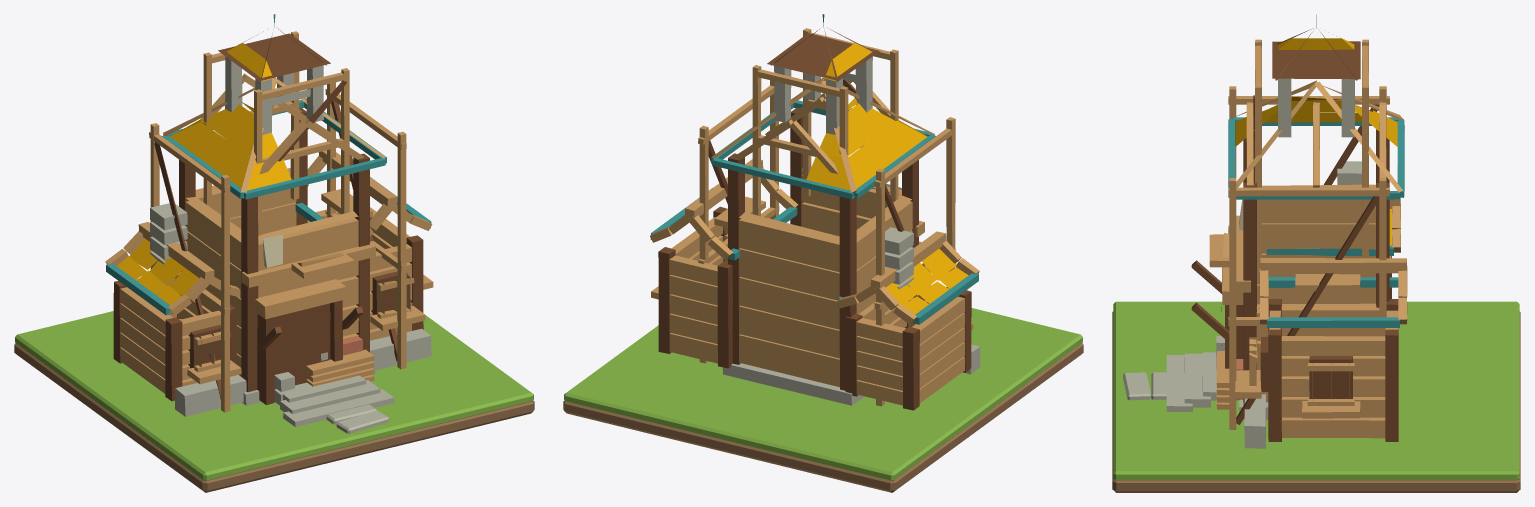
File: town_hall_l06_construction_LOD2.glb
3 views of the same model, side by side, from view 1: azimuth 30°, elevation 25°; view 2: azimuth 150°, elevation 25°; view 3: azimuth 270°, elevation 25° (orthographic). The views are drawn at different scales.
Parts seen in each view (by area): view 1: town_hall_l06_construction_foundation.001, town_hall_l06_construction_grass_tile.001, town_hall_l06_construction_earth_tile.001, town_hall_l06_construction_path_stone.005; view 2: town_hall_l06_construction_foundation.001, town_hall_l06_construction_grass_tile.001, town_hall_l06_construction_earth_tile.001; view 3: town_hall_l06_construction_foundation.001, town_hall_l06_construction_grass_tile.001, town_hall_l06_construction_earth_tile.001, town_hall_l06_construction_path_stone.005, town_hall_l06_construction_path_stone.004.
Boxes of the visible parts, bbox=[...] form: town_hall_l06_construction_foundation.001: bbox=[105, 14, 433, 426]; town_hall_l06_construction_grass_tile.001: bbox=[15, 311, 533, 480]; town_hall_l06_construction_earth_tile.001: bbox=[14, 343, 534, 492]; town_hall_l06_construction_path_stone.005: bbox=[336, 410, 389, 433]; town_hall_l06_construction_foundation.001: bbox=[650, 14, 980, 410]; town_hall_l06_construction_grass_tile.001: bbox=[564, 308, 1082, 480]; town_hall_l06_construction_earth_tile.001: bbox=[563, 343, 1083, 492]; town_hall_l06_construction_foundation.001: bbox=[1166, 14, 1407, 448]; town_hall_l06_construction_grass_tile.001: bbox=[1113, 301, 1519, 480]; town_hall_l06_construction_earth_tile.001: bbox=[1112, 311, 1520, 492]; town_hall_l06_construction_path_stone.005: bbox=[1123, 372, 1151, 400]; town_hall_l06_construction_path_stone.004: bbox=[1151, 372, 1166, 399].
Size of the model in its own units: 3.6 by 3.83 by 3.6.
